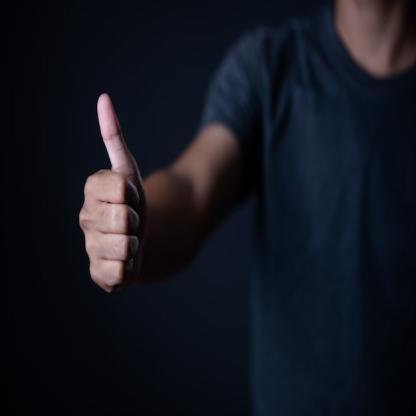thumb_up: (78, 89, 152, 294)
